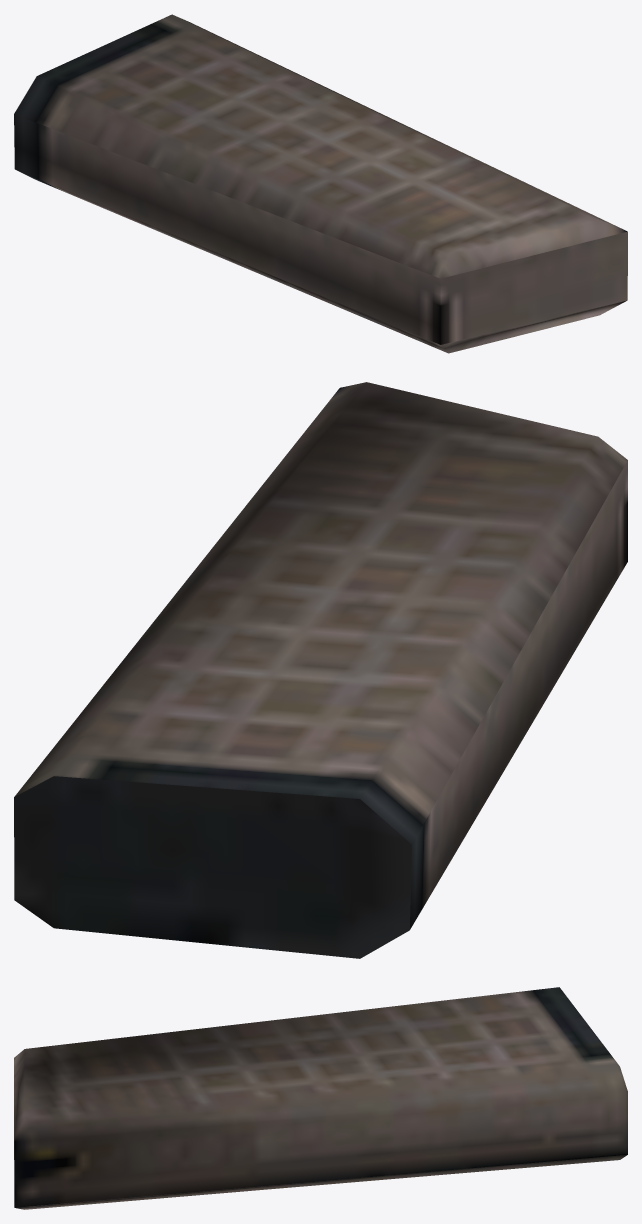
Rendered from Pickup_1017Auga3Dj.glb.
3 renders of one model, top to bottom at view 1: azimuth 30°, elevation 25°; view 2: azimuth 150°, elevation 25°; view 3: azimuth 270°, elevation 25°, orthographic. The views are drawn at different scales.
Visible parts, largest first — view 1: pk_1017_auga3_dj; view 2: pk_1017_auga3_dj; view 3: pk_1017_auga3_dj.
Part boxes in pixels (x1,y1,x2,y2): pk_1017_auga3_dj: (14, 14, 627, 353); pk_1017_auga3_dj: (14, 382, 627, 958); pk_1017_auga3_dj: (14, 987, 627, 1209).
Size of the model in its own units: 0.0814 by 0.0245 by 0.1387.
1 material, 1 textured.
